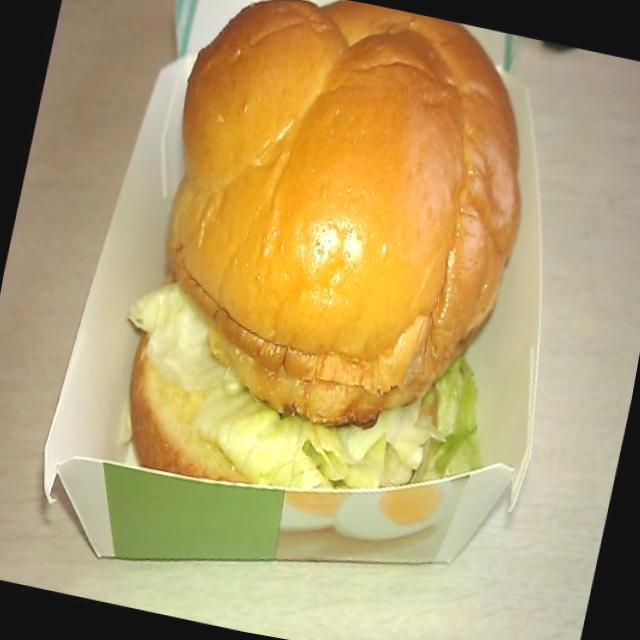Hamburger: (87, 0, 504, 377)
